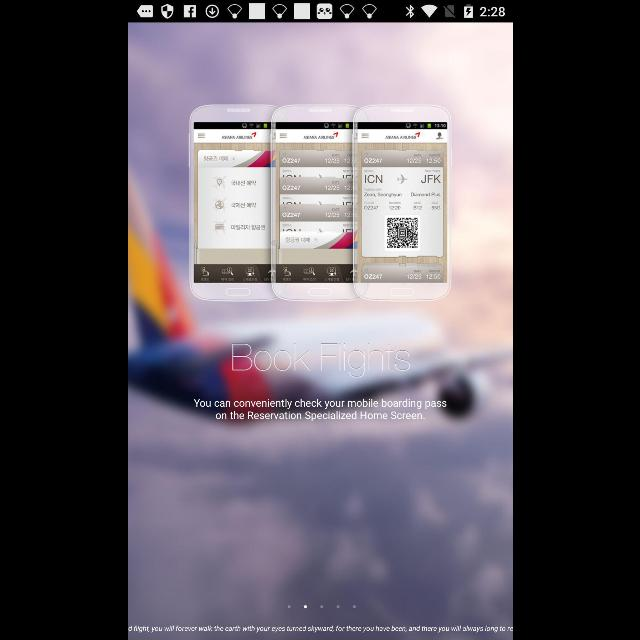backgroundimage: (128, 22, 512, 640)
image: (188, 105, 452, 302)
pageindicator: (286, 605, 356, 609)
text: (230, 343, 410, 379), (192, 398, 446, 422), (128, 626, 512, 632)
uppertaskbar: (128, 1, 512, 23)
